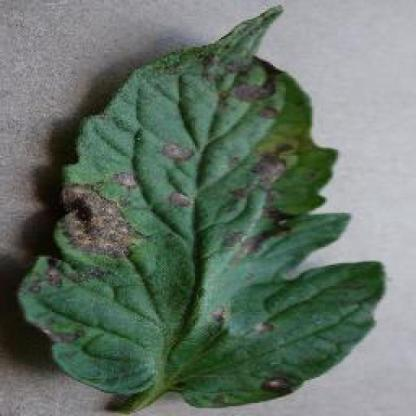Tomato_Blight: (19, 5, 385, 408)
